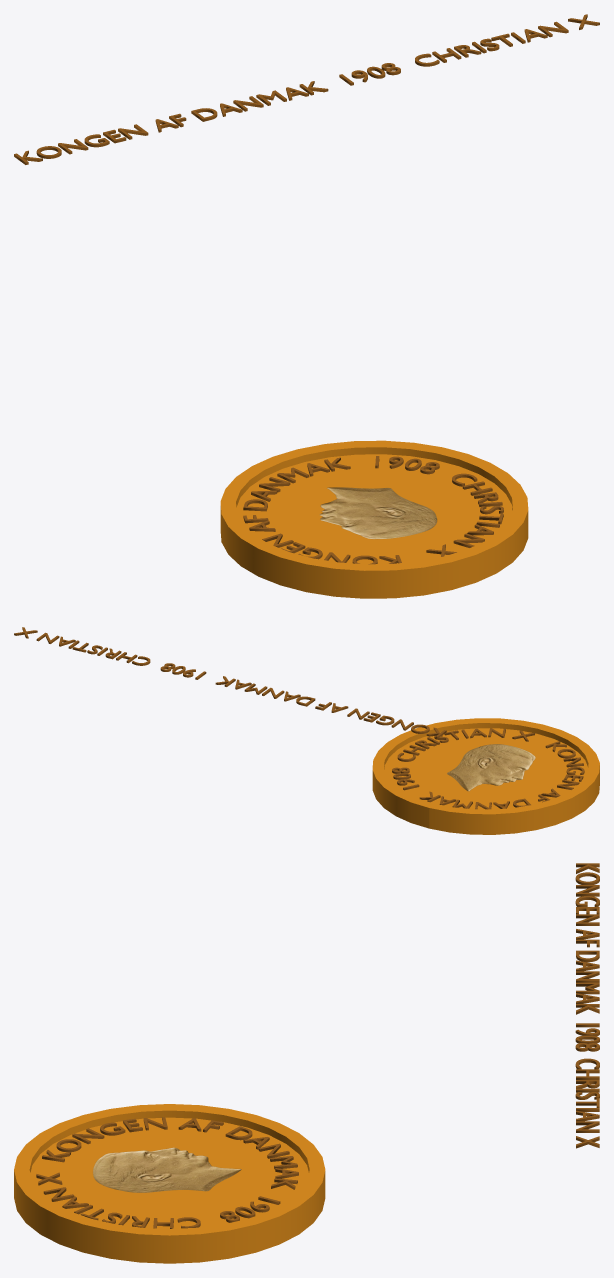
File: coin.glb
3 views of the same model, one above another, from view 1: azimuth 30°, elevation 25°; view 2: azimuth 150°, elevation 25°; view 3: azimuth 270°, elevation 25° (orthographic). The views are drawn at different scales.
Parts seen in each view (by area): view 1: Text, Text.001; view 2: Text, Text.001; view 3: Text, Text.001.
Part boxes in pixels (bbox=[...]): Text: bbox=[220, 440, 528, 598]; Text.001: bbox=[14, 14, 599, 164]; Text: bbox=[372, 718, 599, 834]; Text.001: bbox=[14, 627, 446, 738]; Text: bbox=[14, 1104, 325, 1263]; Text.001: bbox=[575, 863, 599, 1148].
Bounding box in the file's own units: 4.3 × 1.86 × 3.76.
3 materials, 1 textured.
